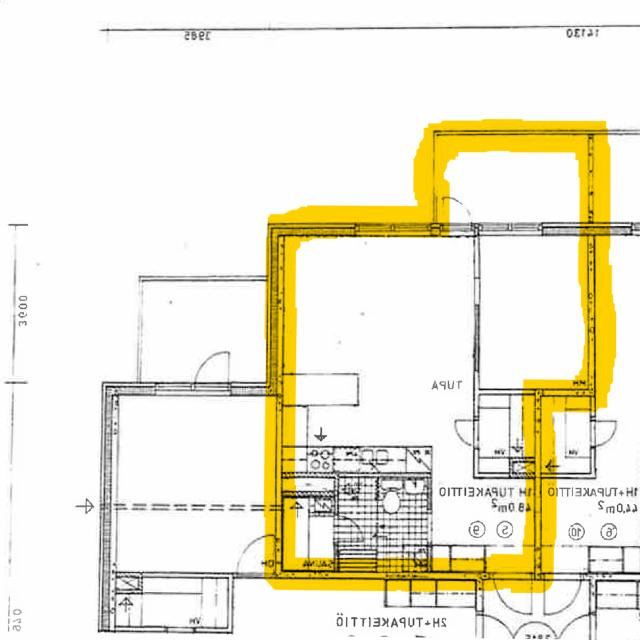door: (494, 572, 532, 619), (444, 192, 472, 236), (450, 420, 479, 446), (335, 518, 361, 541)
